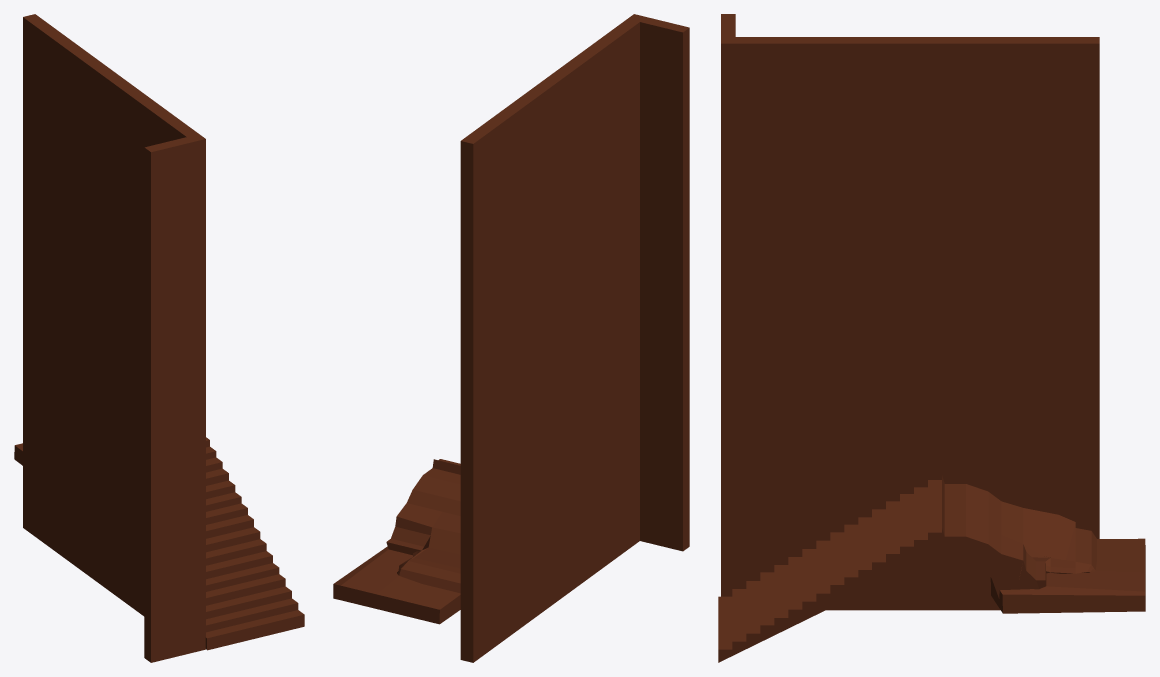
File: escada_level1fbx.fbx
3 renders of one model, left to right at view 1: azimuth 30°, elevation 25°; view 2: azimuth 150°, elevation 25°; view 3: azimuth 270°, elevation 25°, orthographic. The views are drawn at different scales.
Visible parts, largest first — view 1: escadas.001; view 2: escadas.001; view 3: escadas.001.
Boxes of the visible parts, <box> form: escadas.001: <box>14,14,304,662</box>; escadas.001: <box>333,14,689,662</box>; escadas.001: <box>718,14,1145,662</box>.
Bounding box in the file's own units: 567 × 1736 × 1187.
